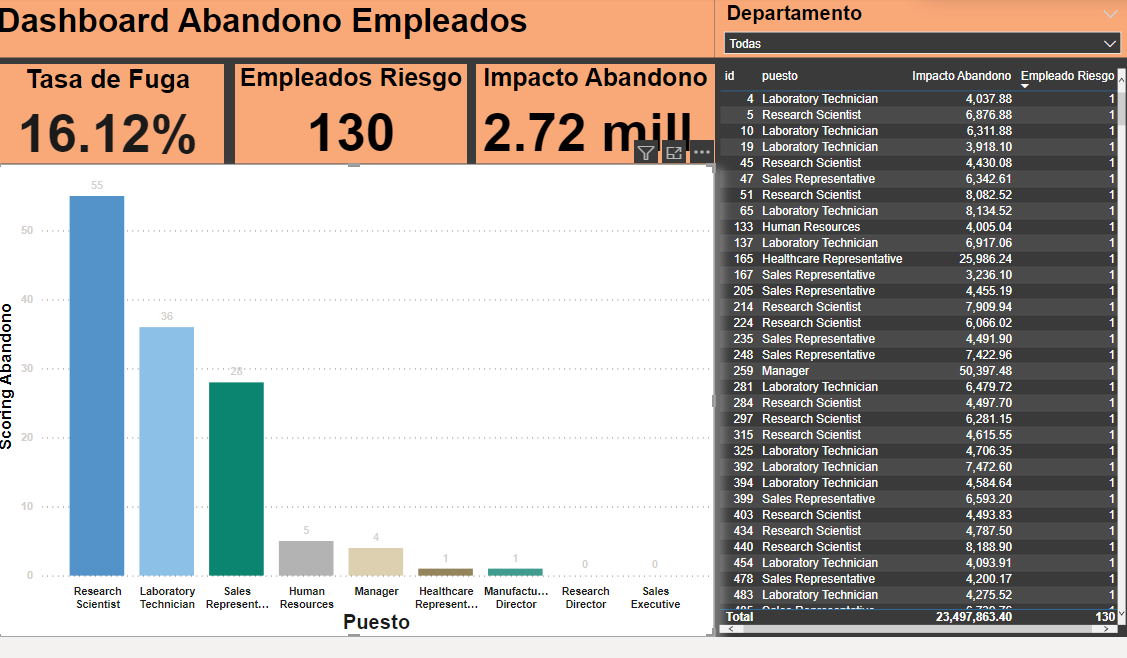

This screenshot's page, from the dashboard's own definition file:
{"tool":"powerbi","page":{"name":"Página 1","canvas":[1280,720],"ordinal":0},"visuals":[{"type":"card","title":"Tasa de Fuga","fields":{"Values":["Avg(Sheet1.Tasa de Fuga)"]},"box":[0,75.9,260.9,111.8],"z":0},{"type":"card","title":"Empleados Riesgo","fields":{"Values":["Sum(Sheet1.Empleados en Riesgo)"]},"box":[272.8,75.9,260.9,111.8],"z":1000},{"type":"card","title":"Impacto Abandono","fields":{"Values":["Sheet1.impacto_abandono para 1"]},"box":[544.3,75.9,268.8,111.8],"z":2000},{"type":"clusteredColumnChart","fields":{"Category":["Sheet1.puesto"],"Y":["Sum(Sheet1.Empleados en Riesgo)"]},"box":[0,187.9,813.4,532.1],"z":3000},{"type":"tableEx","fields":{"Values":["Sheet1.id","Sheet1.puesto","Sum(Sheet1.impacto_abandono)","Sheet1.Empleados en Riesgo para 1"]},"box":[813.4,75.4,466.9,644.6],"z":4000},{"type":"slicer","fields":{"Values":["Sheet1.departamento"]},"box":[813.4,0,466.9,67.5],"z":5000},{"type":"textbox","box":[0,0,813.4,67.5],"z":6000}]}

Visuals, with their boxes in screenshot pixels (x1, y1, x2, y2):
"Tasa de Fuga" card: bbox=[3, 63, 229, 160]
"Empleados Riesgo" card: bbox=[240, 63, 466, 160]
"Impacto Abandono" card: bbox=[476, 63, 709, 160]
clusteredColumnChart - Sheet1.puesto x Sum(Sheet1.Empleados en Riesgo): bbox=[3, 160, 709, 622]
tableEx - Sheet1.id x Sheet1.puesto: bbox=[709, 63, 1115, 622]
slicer - Sheet1.departamento: bbox=[709, 0, 1115, 56]
textbox: bbox=[3, 0, 709, 56]
